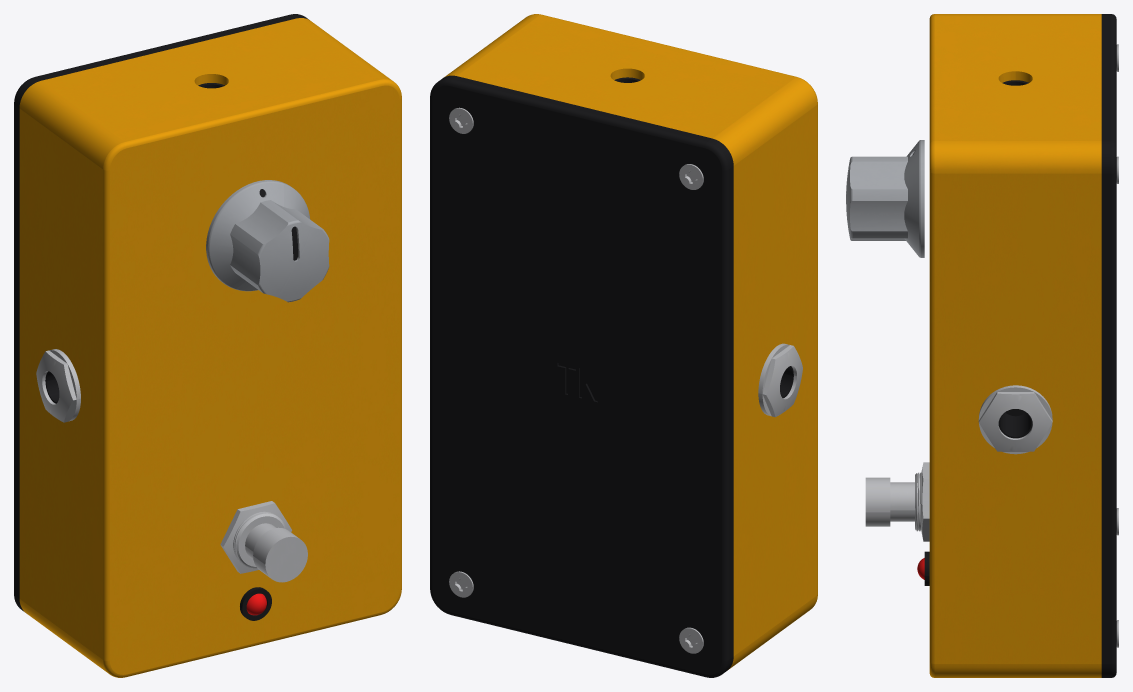
The model's file is Pedal1.glb.
The picture shows the model from 3 angles, left to right: view 1: azimuth 30°, elevation 25°; view 2: azimuth 150°, elevation 25°; view 3: azimuth 270°, elevation 25°; orthographic projection.
Parts seen in each view (by area): view 1: Shape_IndexedFaceSet.081, Shape_IndexedFaceSet.056, Shape_IndexedFaceSet.064, Shape_IndexedFaceSet.086, Shape_IndexedFaceSet.090, Shape_IndexedFaceSet.044, Shape_IndexedFaceSet.286, Shape_IndexedFaceSet.296, Shape_IndexedFaceSet.297, Shape_IndexedFaceSet.092, Shape_IndexedFaceSet.110, Shape_IndexedFaceSet.094 (+11 smaller); view 2: Shape_IndexedFaceSet, Shape_IndexedFaceSet.056, Shape_IndexedFaceSet.064, Shape_IndexedFaceSet.086, Shape_IndexedFaceSet.051, Shape_IndexedFaceSet.044, Shape_IndexedFaceSet.053, Shape_IndexedFaceSet.055, Shape_IndexedFaceSet.046, Shape_IndexedFaceSet.084, Shape_IndexedFaceSet.049, Shape_IndexedFaceSet.251 (+1 smaller); view 3: Shape_IndexedFaceSet.057, Shape_IndexedFaceSet.064, Shape_IndexedFaceSet.085, Shape_IndexedFaceSet.040, Shape_IndexedFaceSet.055, Shape_IndexedFaceSet.094, Shape_IndexedFaceSet.082, Shape_IndexedFaceSet.308, Shape_IndexedFaceSet.307, Shape_IndexedFaceSet.046, Shape_IndexedFaceSet.219, Shape_IndexedFaceSet.218 (+9 smaller).
Boxes of the visible parts, x1,y1,x2,y2 form: Shape_IndexedFaceSet.081: (110,85,399,674); Shape_IndexedFaceSet.056: (19,109,102,659); Shape_IndexedFaceSet.064: (41,18,379,141); Shape_IndexedFaceSet.086: (19,81,123,169); Shape_IndexedFaceSet.090: (103,169,109,660); Shape_IndexedFaceSet.044: (14,105,19,598); Shape_IndexedFaceSet.286: (209,183,283,288); Shape_IndexedFaceSet.296: (259,222,310,297); Shape_IndexedFaceSet.297: (278,227,329,301); Shape_IndexedFaceSet.092: (125,80,382,148); Shape_IndexedFaceSet.110: (265,536,307,582); Shape_IndexedFaceSet.094: (399,98,401,589); Shape_IndexedFaceSet: (432,85,721,674); Shape_IndexedFaceSet.056: (733,105,817,655); Shape_IndexedFaceSet.064: (457,15,795,138); Shape_IndexedFaceSet.086: (712,77,817,165); Shape_IndexedFaceSet.051: (722,169,728,660); Shape_IndexedFaceSet.044: (729,166,733,659); Shape_IndexedFaceSet.053: (449,80,706,148); Shape_IndexedFaceSet.055: (430,98,432,589); Shape_IndexedFaceSet.046: (452,76,711,141); Shape_IndexedFaceSet.084: (728,595,817,669); Shape_IndexedFaceSet.049: (449,612,705,677); Shape_IndexedFaceSet.251: (766,353,788,416); Shape_IndexedFaceSet.057: (934,173,1101,663); Shape_IndexedFaceSet.064: (934,16,1101,140); Shape_IndexedFaceSet.085: (934,141,1101,173); Shape_IndexedFaceSet.040: (1101,173,1111,663); Shape_IndexedFaceSet.055: (1111,172,1116,663); Shape_IndexedFaceSet.094: (929,172,934,663); Shape_IndexedFaceSet.082: (934,664,1101,677); Shape_IndexedFaceSet.308: (850,201,907,231); Shape_IndexedFaceSet.307: (850,161,907,189); Shape_IndexedFaceSet.046: (1101,16,1111,140); Shape_IndexedFaceSet.219: (1015,393,1052,451); Shape_IndexedFaceSet.218: (979,393,1015,451).
Size of the model in its own units: 0.7551 by 1.2 by 0.555.
Materials: 5 (4 with a texture image).
